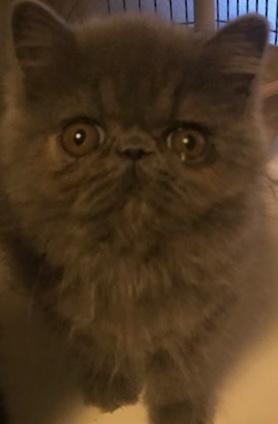persian: (1, 1, 274, 272)
